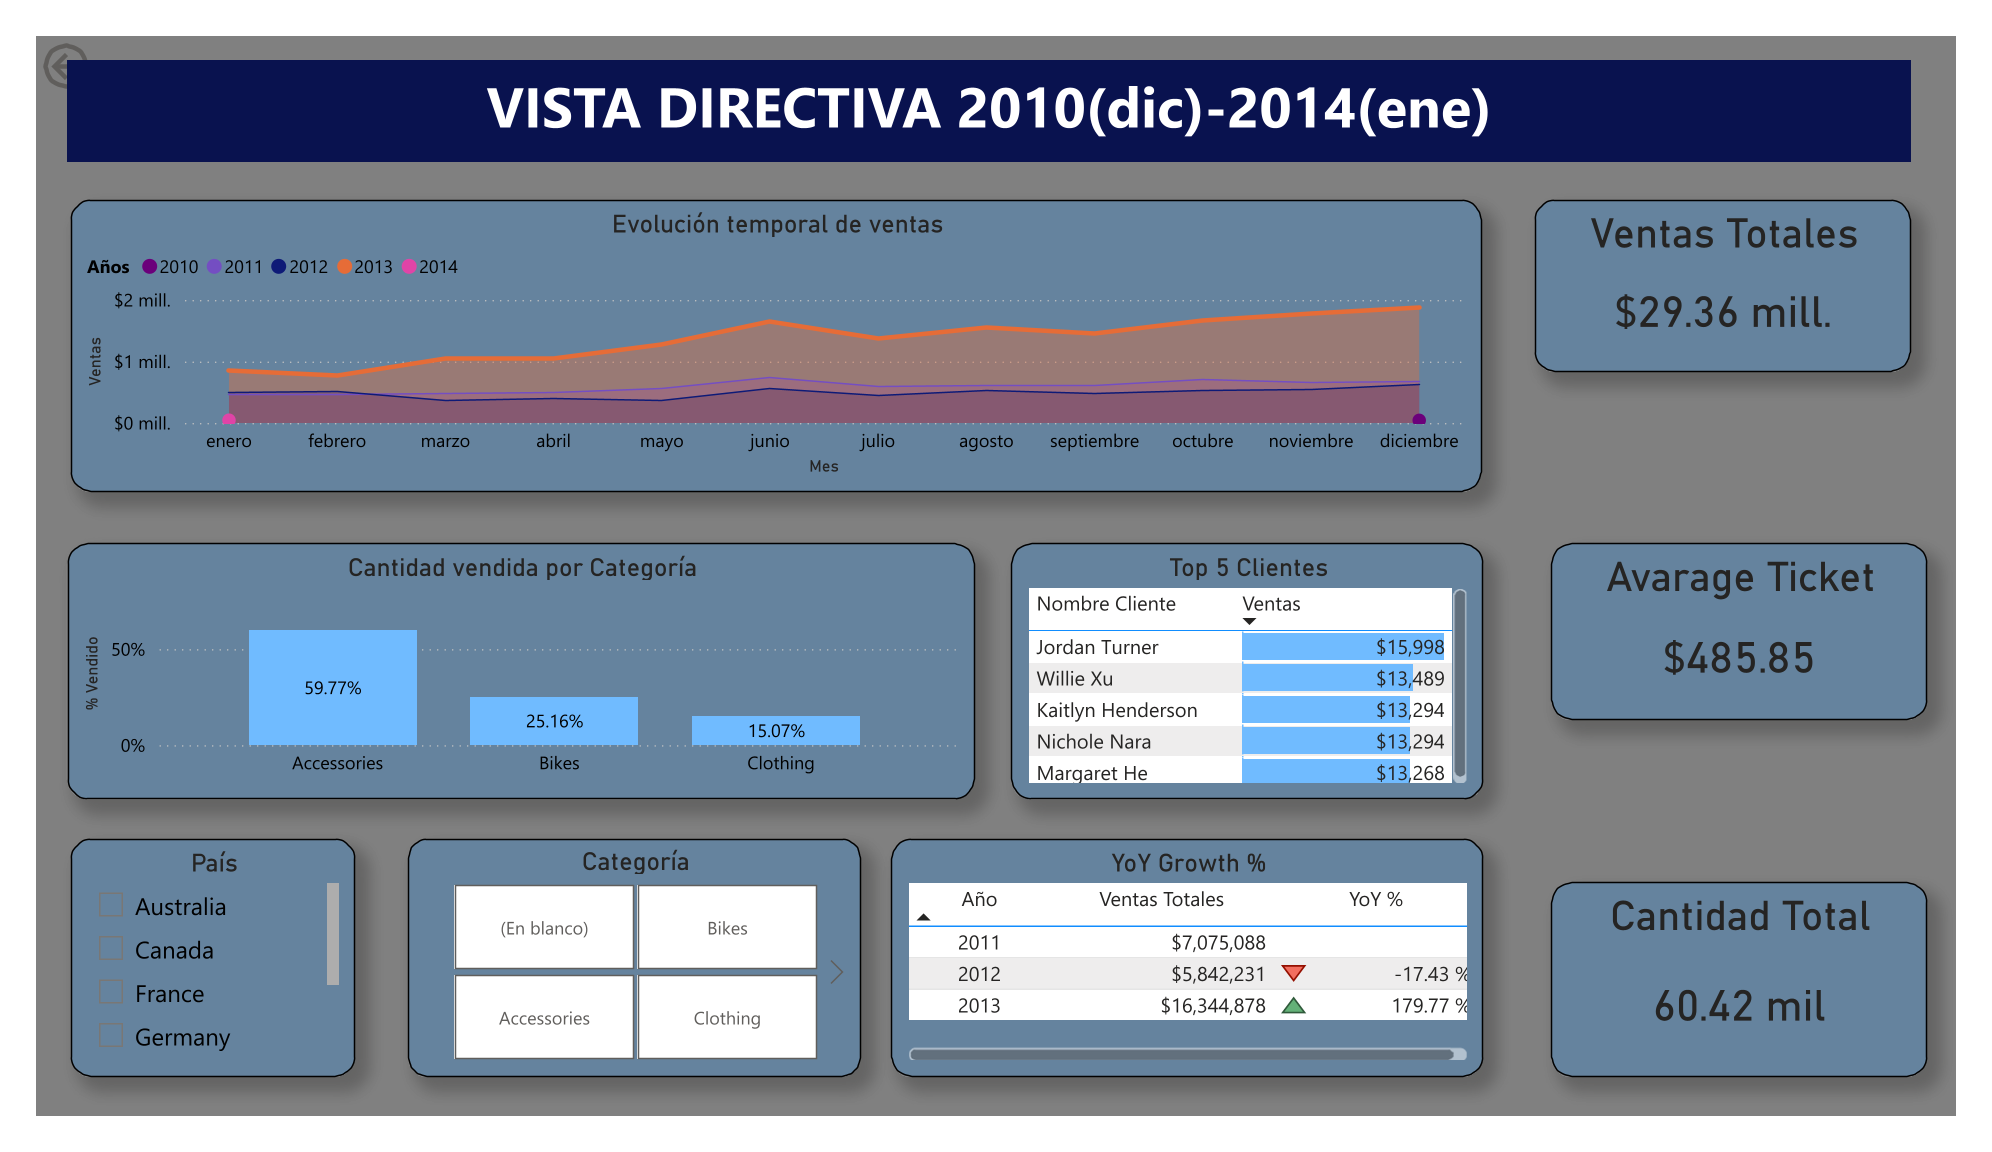

This screenshot's page, from the dashboard's own definition file:
{"tool":"powerbi","page":{"name":"Vista Directiva","canvas":[1280,720],"ordinal":0},"visuals":[{"type":"card","title":"Ventas Totales","fields":{"Values":["gold fact_sales.sales_amount"]},"box":[998.6,108.6,251.4,115.7],"z":0},{"type":"card","title":"Cantidad Total","fields":{"Values":["gold fact_sales.quantity_sold"]},"box":[1010,563.8,251.2,130],"z":1000},{"type":"card","title":"Avarage Ticket","fields":{"Values":["gold dim_product.avarage_ticket"]},"box":[1010,337.5,251.2,118.8],"z":2000},{"type":"lineChart","title":"Evolución temporal de ventas","fields":{"Y":["gold fact_sales.ventas_totales"],"Series":["gold fact_sales.order_year"],"Category":["gold fact_sales.order_date.Variación.Jerarquía de fechas.Mes"]},"box":[22.9,108.6,941.4,195.7],"z":3000},{"type":"columnChart","title":"Cantidad vendida por Categoría","fields":{"Category":["gold dim_product.category_name"],"Y":["gold fact_sales.quantity_sold","select"]},"box":[21.2,337.5,605,171.2],"z":4000},{"type":"tableEx","title":"Top 5 Clientes","fields":{"Values":["gold dim_customers.customer_full_name","gold fact_sales.sales_amount"]},"box":[650,337.5,315,171.2],"z":5000},{"type":"slicer","title":"Categoría","fields":{"Values":["gold dim_product.category_name"]},"box":[247.5,535,302.5,158.8],"z":6000},{"type":"slicer","title":"País","fields":{"Values":["gold dim_customers.country"]},"box":[22.5,535,190,158.8],"z":7000},{"type":"tableEx","title":"YoY Growth %","fields":{"Values":["Sales YoY Table.order_year Jerarquía.order_year","Sales YoY Table.ventas_totales","Sales YoY Table.YoY Growth %"]},"box":[570,535,395,158.8],"z":8000},{"type":"actionButton","box":[0,0,100,40],"z":9000},{"type":"textbox","box":[21.2,16.2,1228.8,67.5],"z":10000}]}

Visuals, with their boxes on the page's 1280x720 design canvas (x1, y1, x2, y2). These are canvas units, not pixel positions in the 1992x1152 screenshot, which may show the page scaled, cropped or inside an application window:
"Ventas Totales" card: left=999, top=109, right=1250, bottom=224
"Cantidad Total" card: left=1010, top=564, right=1261, bottom=694
"Avarage Ticket" card: left=1010, top=338, right=1261, bottom=456
"Evolución temporal de ventas" lineChart: left=23, top=109, right=964, bottom=304
"Cantidad vendida por Categoría" columnChart: left=21, top=338, right=626, bottom=509
"Top 5 Clientes" tableEx: left=650, top=338, right=965, bottom=509
"Categoría" slicer: left=248, top=535, right=550, bottom=694
"País" slicer: left=22, top=535, right=212, bottom=694
"YoY Growth %" tableEx: left=570, top=535, right=965, bottom=694
actionButton: left=0, top=0, right=100, bottom=40
textbox: left=21, top=16, right=1250, bottom=84
